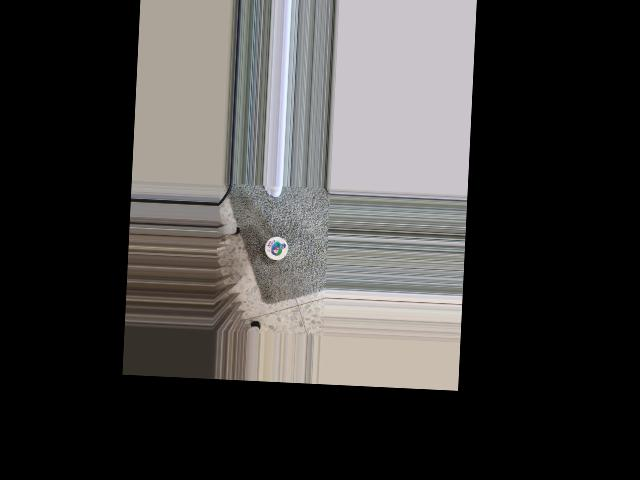cotage: (264, 236, 289, 261)
